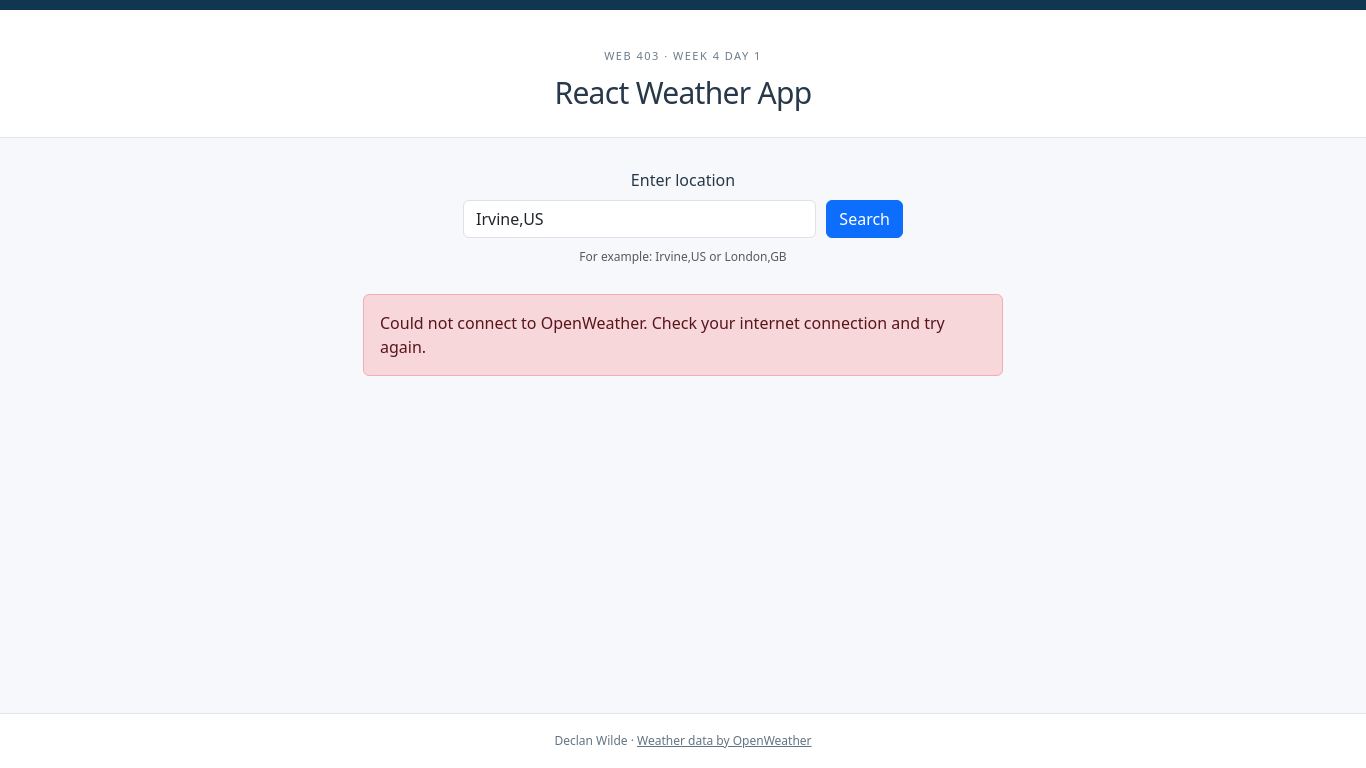
Test: handles connection failures and incomplete weather data
Expected: the message shows "Could not connect", [380,312,945,358]
Click the button "Search". click: (865,218)
box: [826,200,903,238]
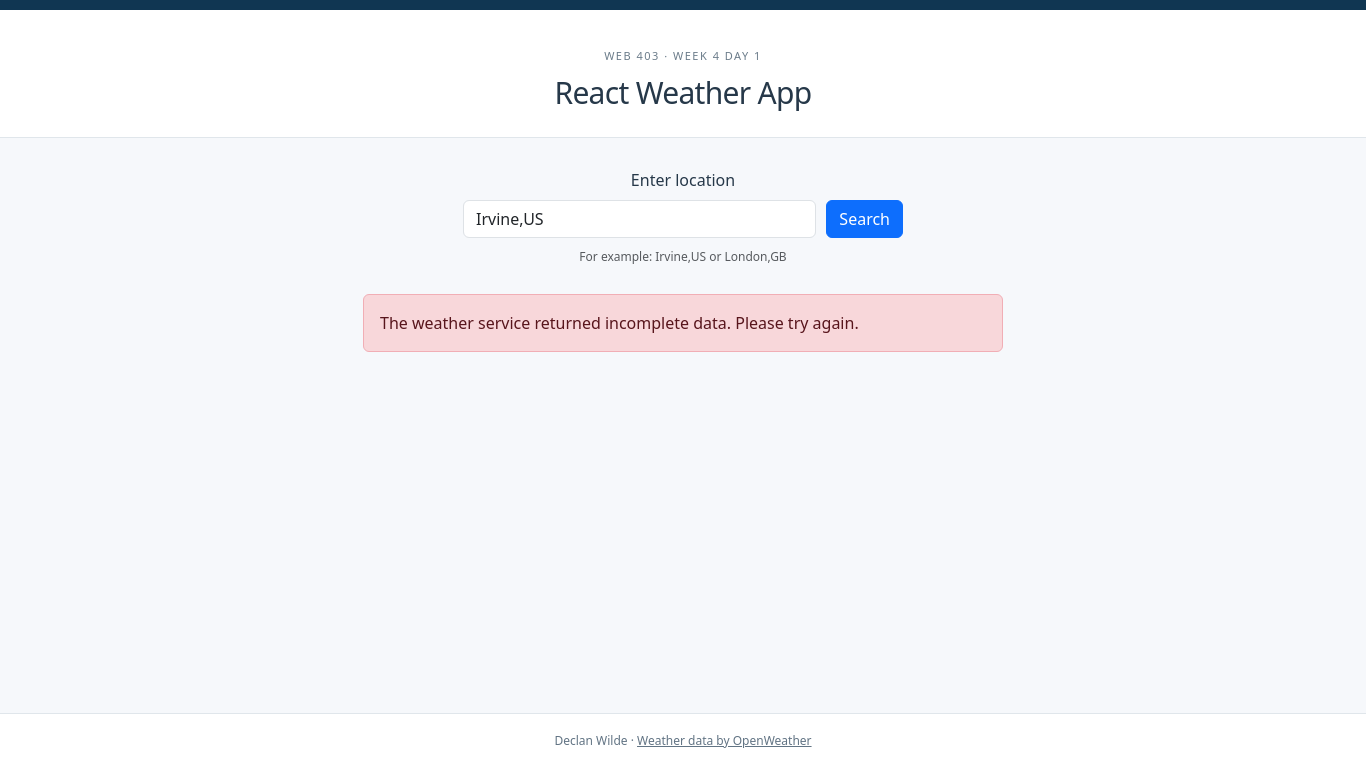
Expected: the message shows "incomplete data", [380,312,859,334]
